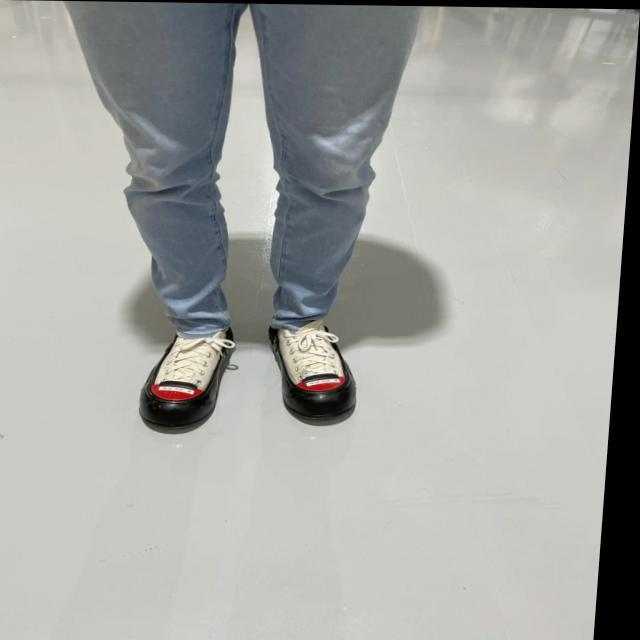shoes: (132, 323, 243, 438), (260, 317, 368, 428)
